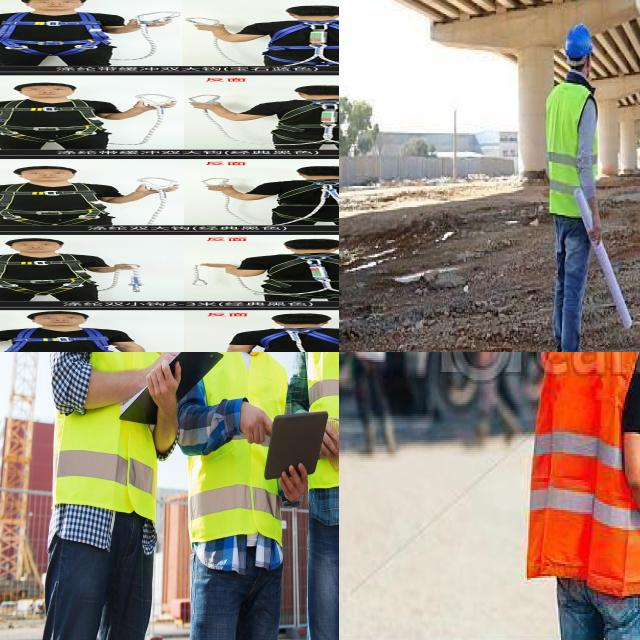Harness: (0, 13, 120, 59), (0, 181, 111, 227), (0, 98, 102, 144), (256, 17, 339, 66), (0, 256, 98, 294), (256, 178, 339, 221), (256, 101, 339, 143), (256, 253, 339, 295), (0, 327, 128, 352), (239, 328, 339, 352)
hand_noglove: (235, 395, 276, 452), (144, 356, 182, 408), (278, 464, 310, 510), (588, 215, 605, 248)
head_helmet: (564, 22, 595, 63)
person: (184, 352, 291, 640), (549, 352, 640, 640), (544, 17, 606, 352), (293, 352, 339, 640), (347, 352, 407, 460), (470, 352, 522, 462)
vest: (530, 352, 640, 590), (52, 352, 163, 527), (188, 352, 284, 548), (546, 80, 600, 216), (305, 352, 339, 495)
